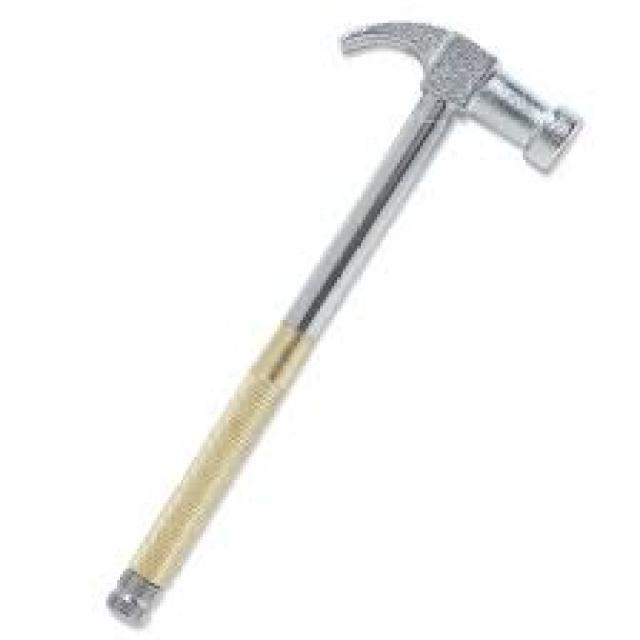hammer: (82, 11, 601, 628)
